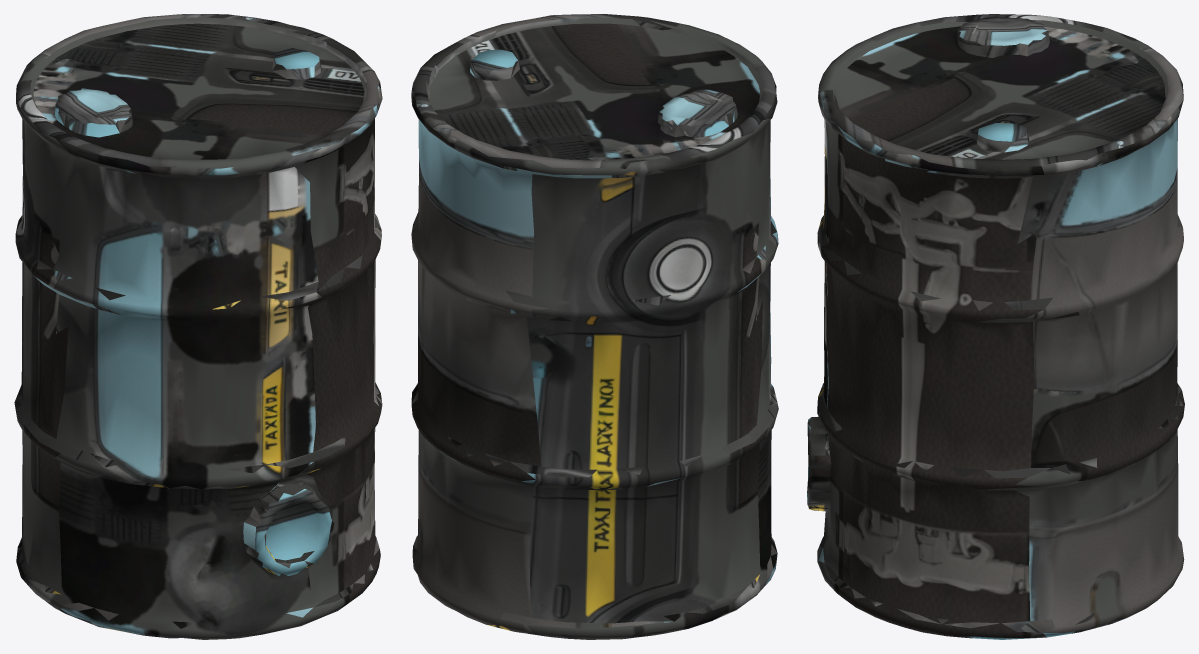
File: Gastong.obj
3 views of the same model, side by side, from view 1: azimuth 30°, elevation 25°; view 2: azimuth 150°, elevation 25°; view 3: azimuth 270°, elevation 25° (orthographic).
Visible parts, largest first — view 1: material_0; view 2: material_0; view 3: material_0.
Part boxes in pixels (box(x1,y1,x2,y2)): material_0: box(14, 14, 382, 639); material_0: box(411, 14, 778, 639); material_0: box(807, 14, 1184, 639).
Size of the model in its own units: 0.69 by 1 by 0.7058.
